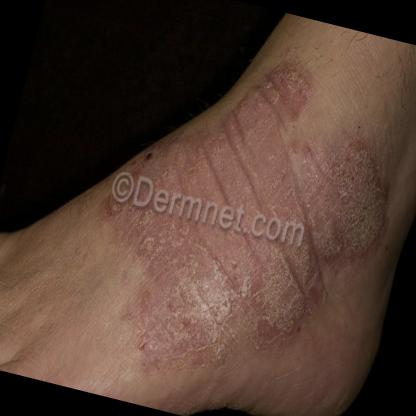Psoriasis: (80, 23, 378, 382), (300, 130, 407, 273)
